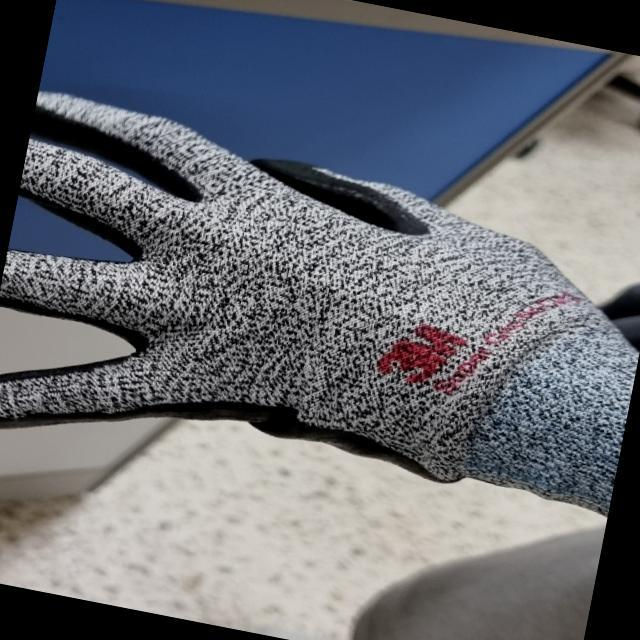Gloves: (0, 86, 638, 528)
